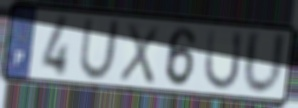4: (38, 13, 71, 81)
6: (164, 25, 200, 89)
U: (240, 27, 288, 99), (77, 16, 122, 82), (201, 27, 245, 93)
X: (117, 20, 162, 87)
